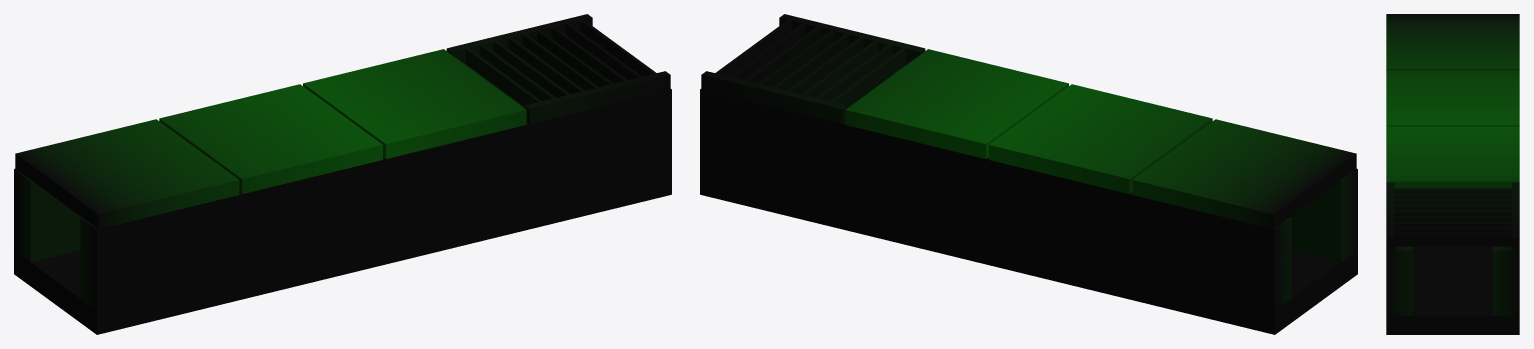
Rendered from muong_straight.glb.
3 views of the same model, side by side, from view 1: azimuth 30°, elevation 25°; view 2: azimuth 150°, elevation 25°; view 3: azimuth 270°, elevation 25° (orthographic). The views are drawn at different scales.
Parts seen in each view (by area): view 1: muong_straight; view 2: muong_straight; view 3: muong_straight.
Boxes of the visible parts, x1,y1,x2,y2 form: muong_straight: (14,14,671,334); muong_straight: (700,14,1357,334); muong_straight: (1386,14,1519,334).
Bounding box in the file's own units: 2 × 0.4 × 0.5.
